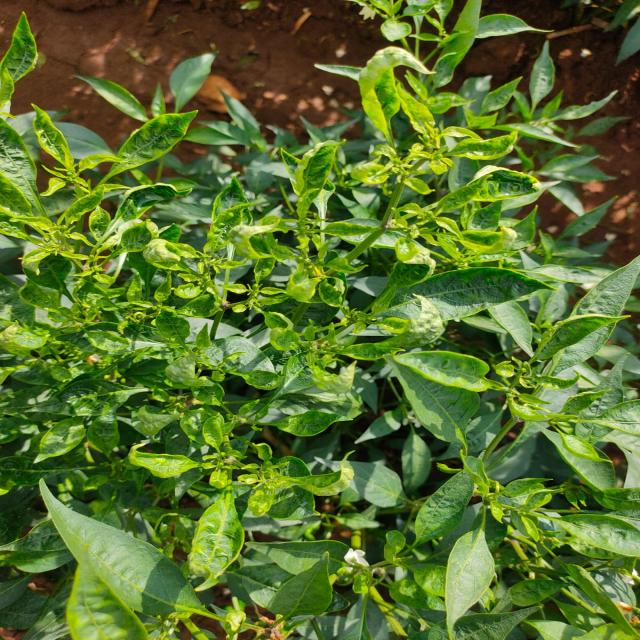Moko: (369, 459, 640, 627), (220, 120, 392, 378), (0, 104, 208, 291), (313, 22, 503, 196), (148, 383, 332, 553), (442, 344, 640, 480), (377, 152, 539, 314), (26, 519, 206, 640), (0, 0, 86, 124)
